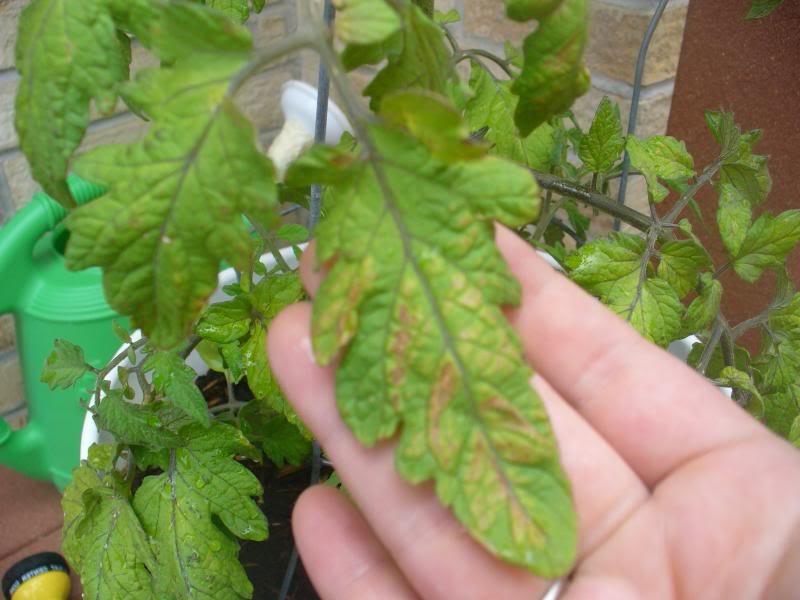Tomato leaf bacterial spot: (299, 89, 597, 583), (101, 25, 293, 365)
